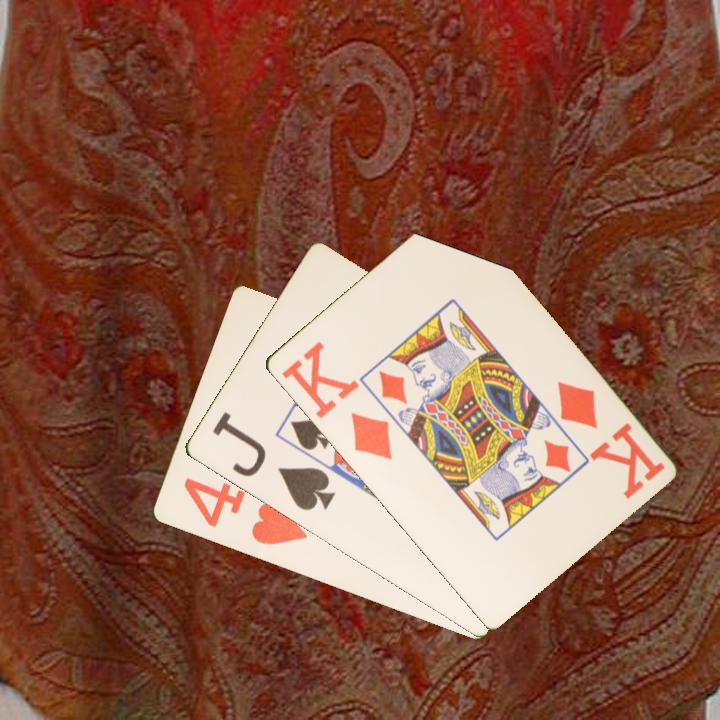4h: (179, 474, 310, 548)
Js: (208, 408, 338, 514)
Kd: (277, 337, 395, 463), (552, 377, 668, 501)
